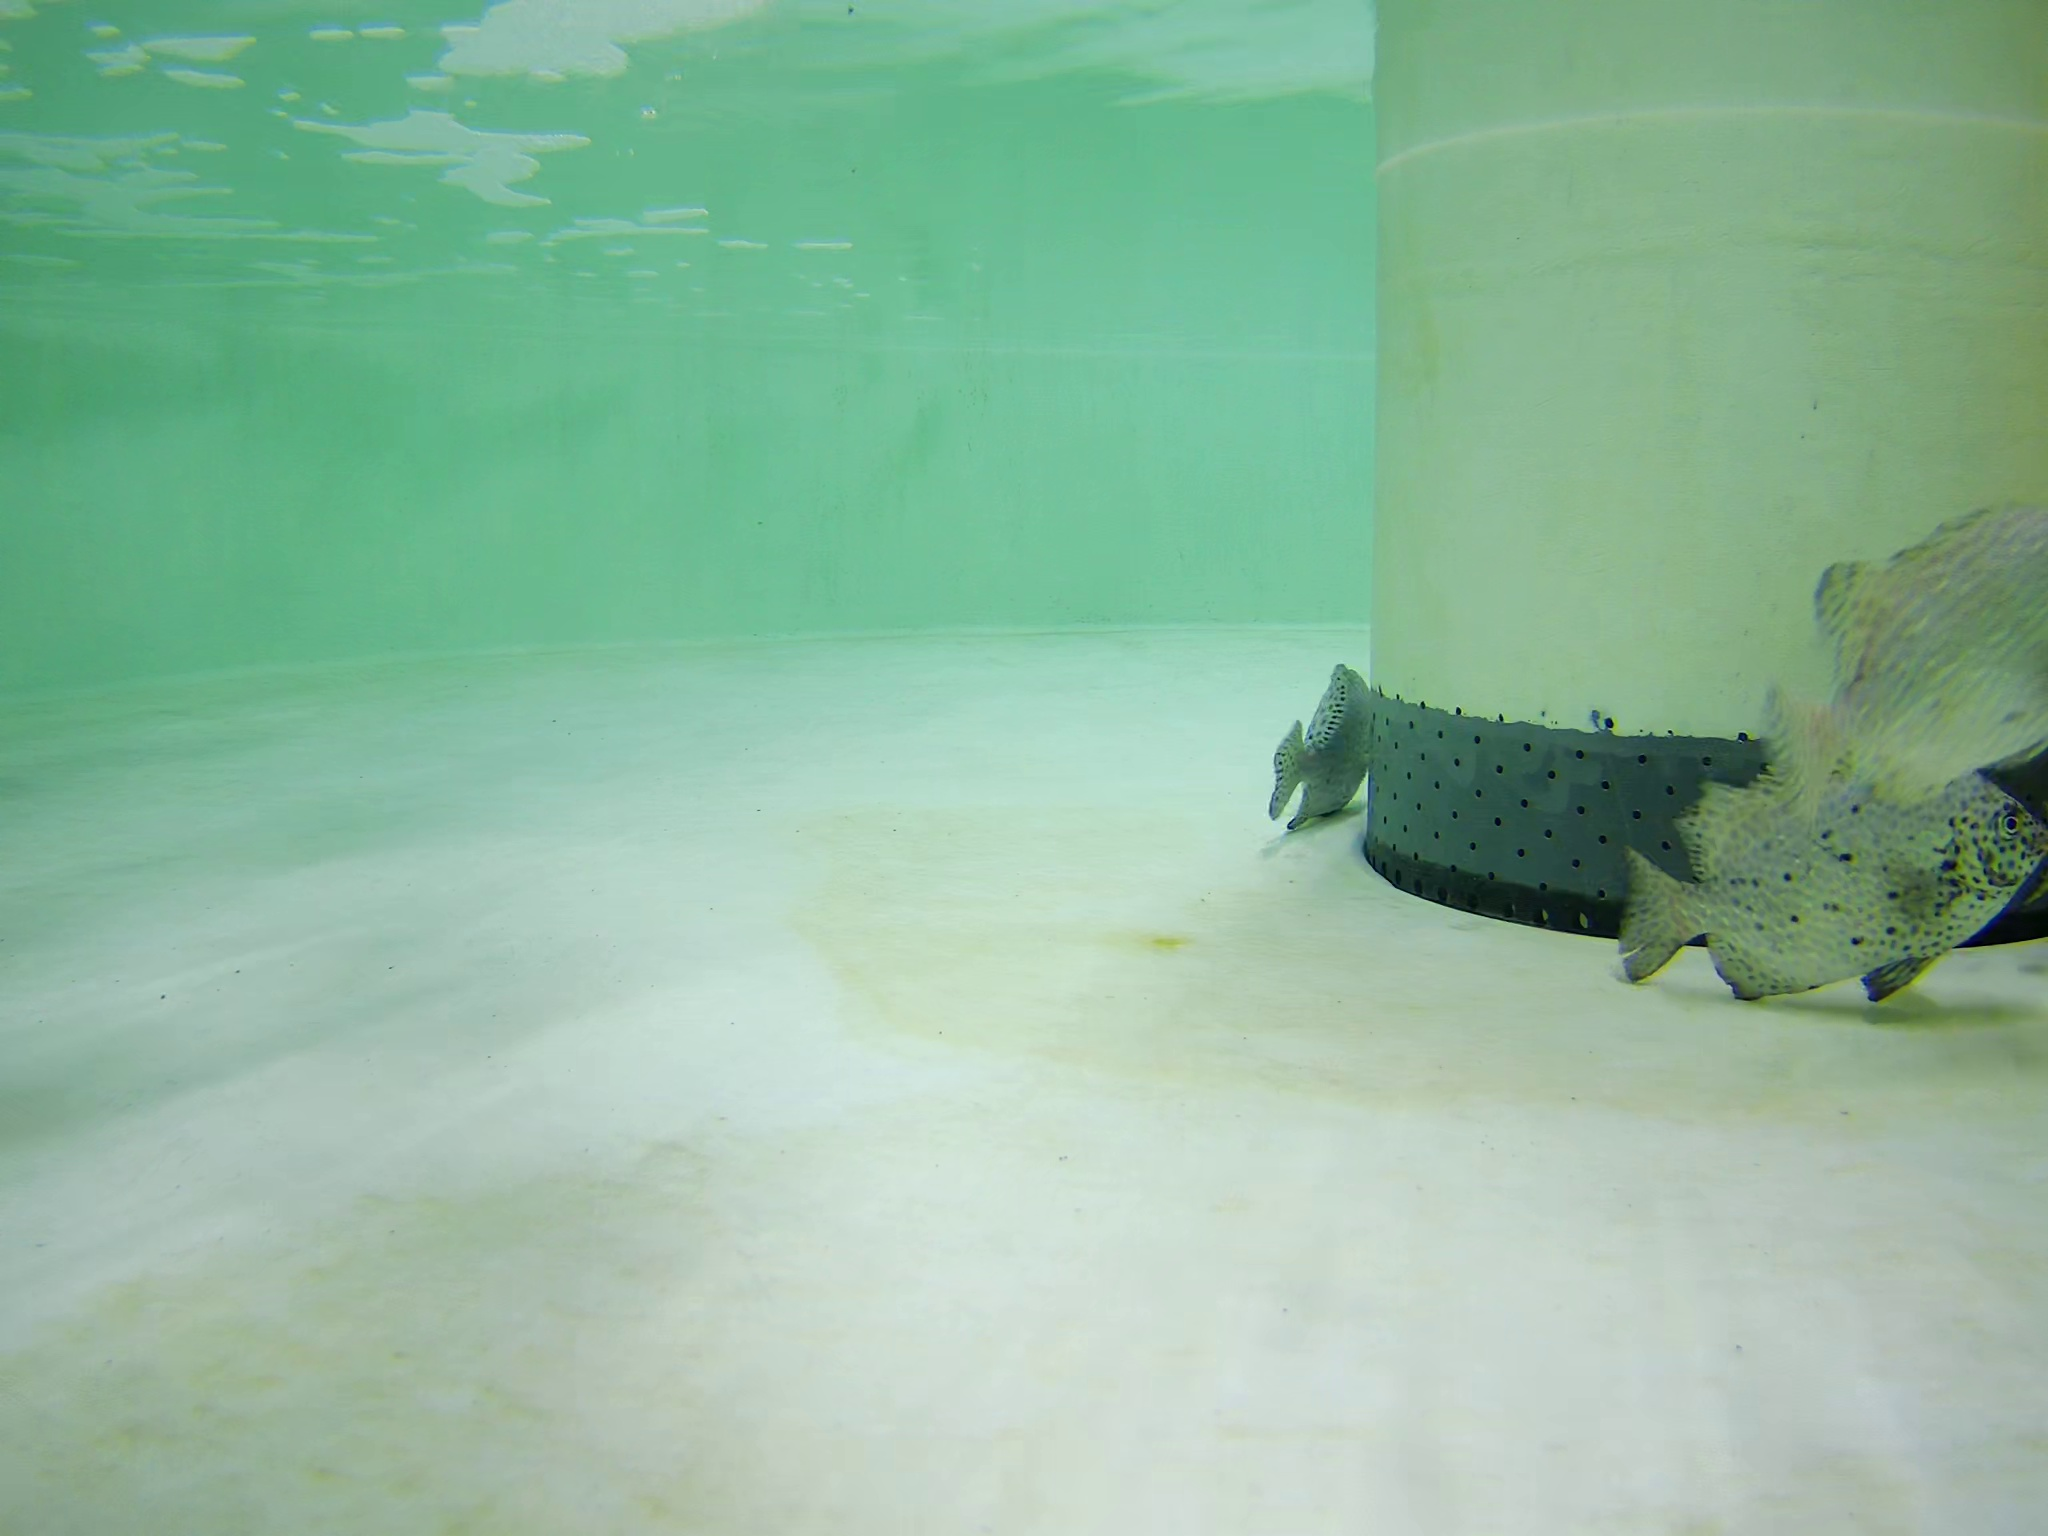fish: (1603, 736, 2048, 1029), (1759, 499, 2048, 799), (1263, 655, 1371, 820)
